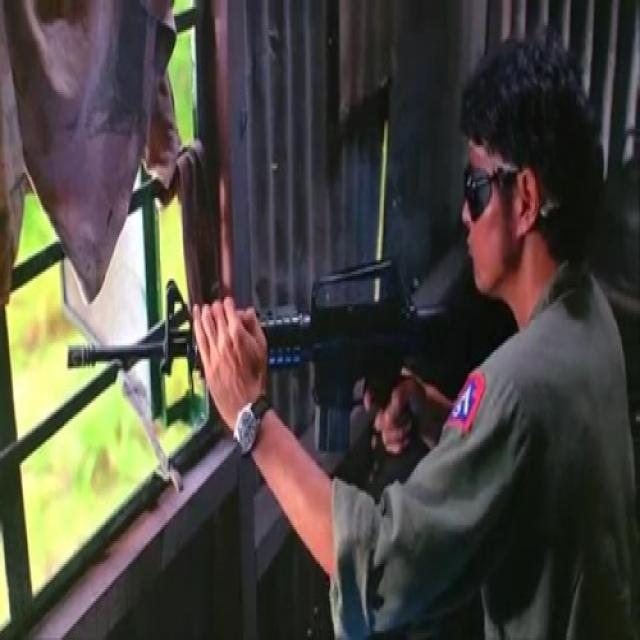rifle: (61, 274, 473, 452)
